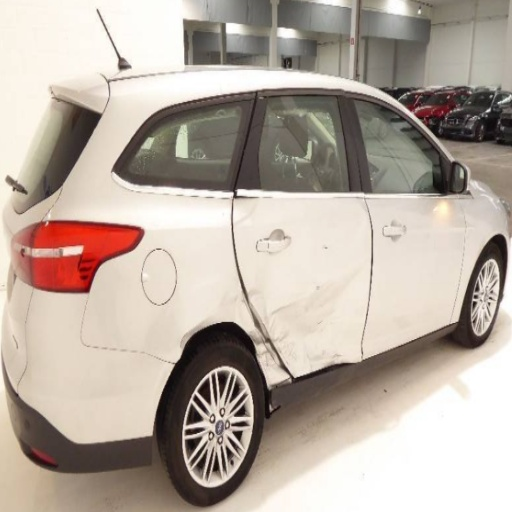dent: (244, 255, 344, 378), (177, 282, 289, 388), (265, 307, 314, 352), (333, 261, 369, 299), (234, 202, 267, 236), (320, 239, 333, 257)
scratch: (268, 296, 307, 315), (312, 314, 327, 329), (310, 282, 327, 294), (304, 352, 313, 371), (330, 352, 343, 360), (321, 346, 326, 363), (324, 246, 330, 251)
